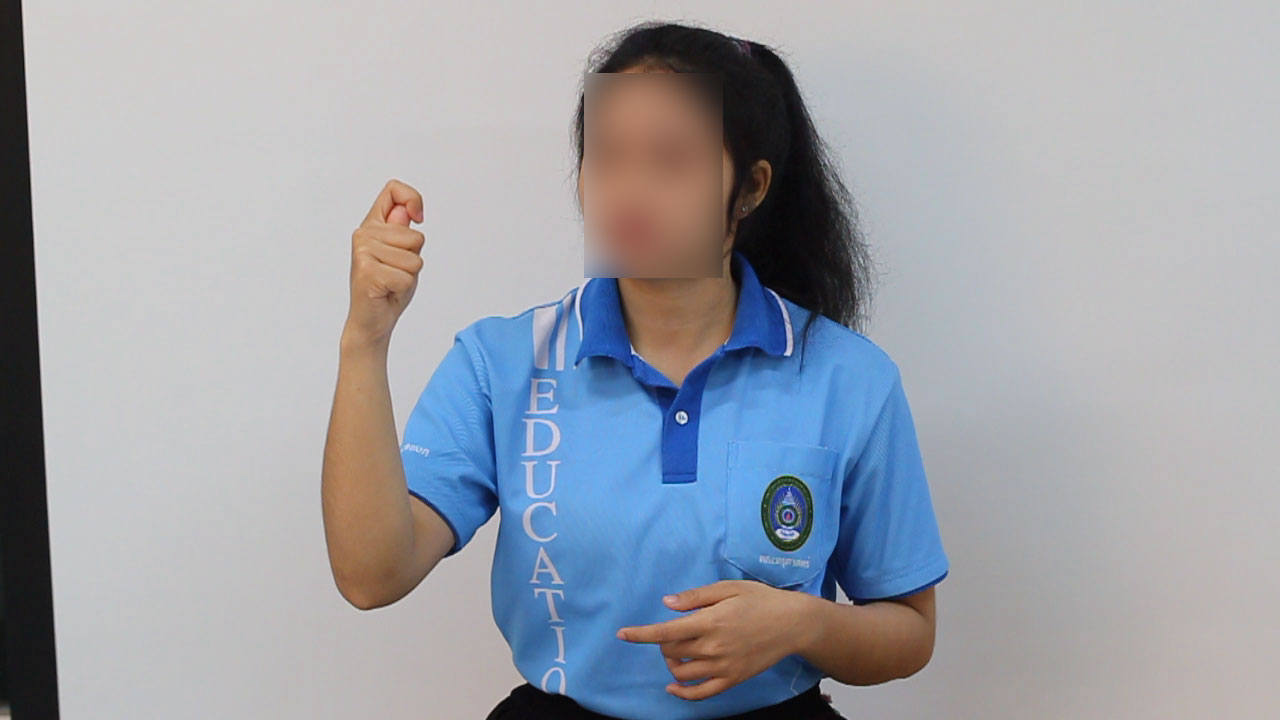or: (345, 172, 429, 337)
